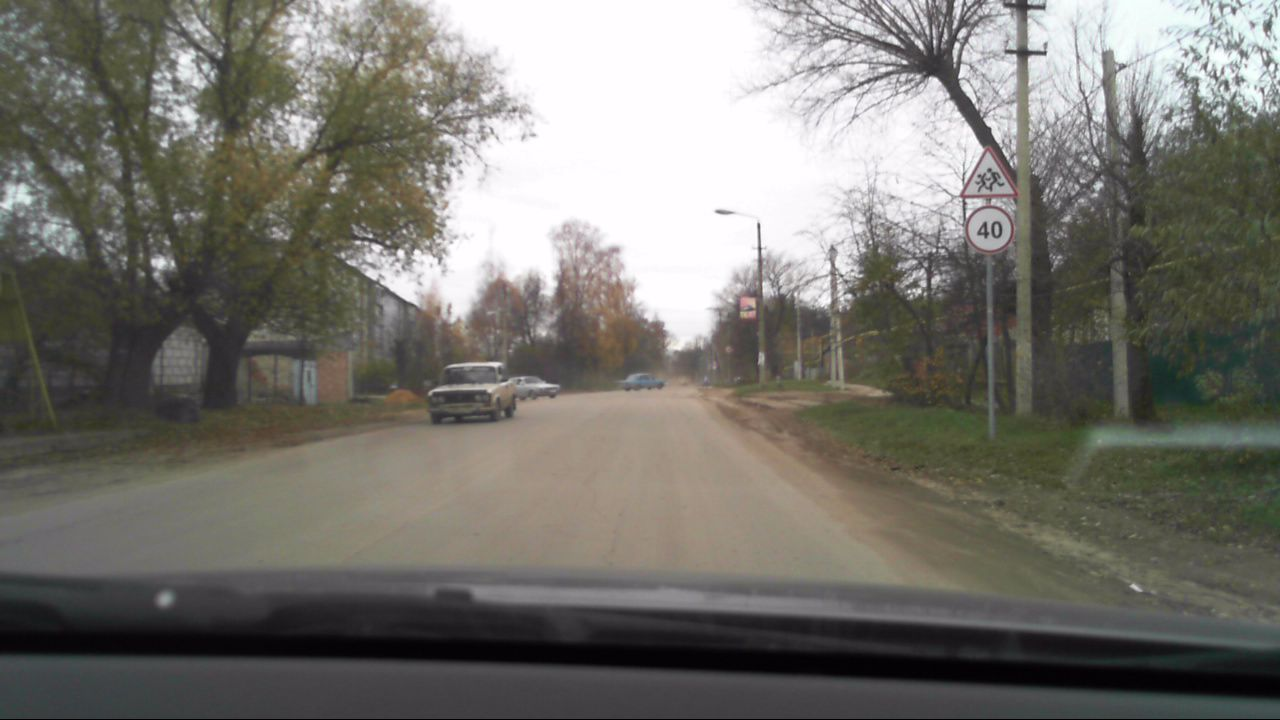speed_warning_40: (964, 206, 1016, 256)
